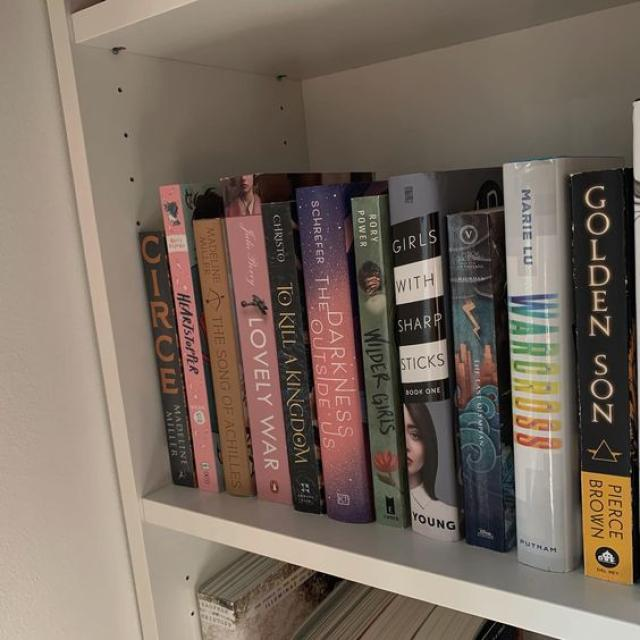book: (502, 159, 573, 575), (570, 168, 633, 583), (297, 185, 374, 521), (388, 175, 457, 537), (221, 174, 291, 505), (446, 213, 506, 549), (262, 201, 322, 514), (350, 196, 404, 529), (159, 182, 216, 491), (192, 218, 253, 496), (138, 232, 197, 488)
